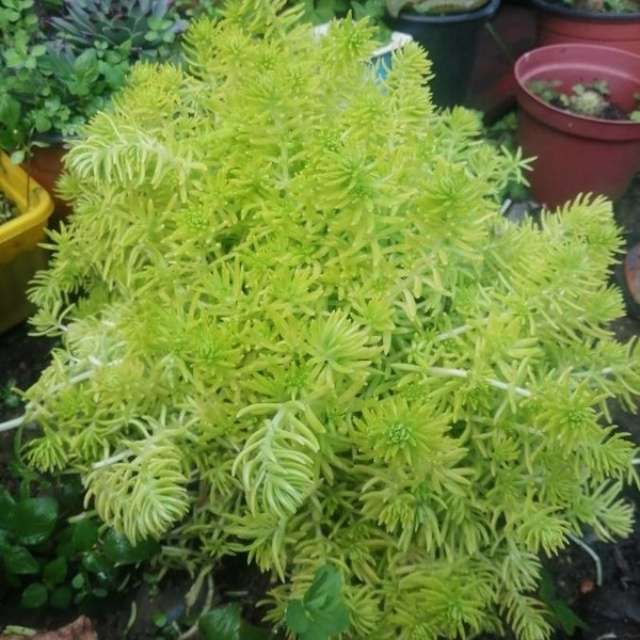obstacle: (42, 37, 587, 588), (497, 13, 628, 181)
